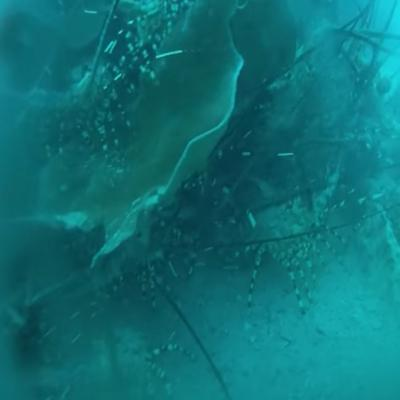lobster: (246, 194, 310, 280)
